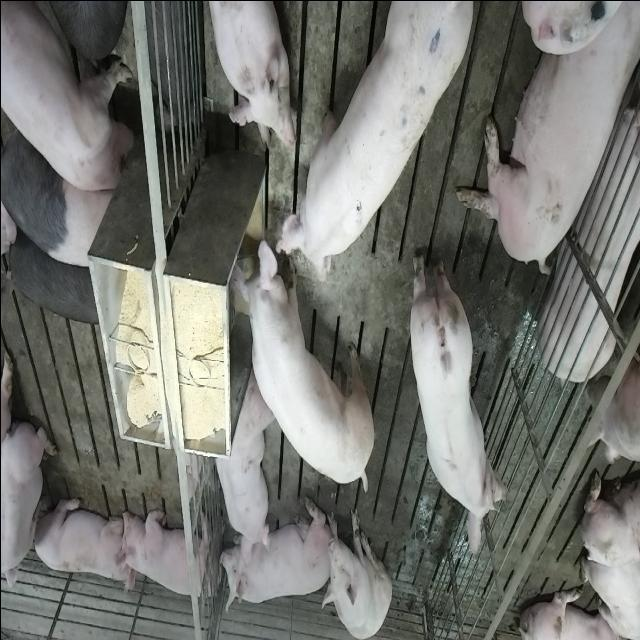Lateral_lying: (453, 4, 637, 278), (538, 97, 640, 381)
Sitting: (322, 504, 391, 637)
Standing: (270, 5, 478, 283), (233, 228, 376, 488), (408, 243, 509, 553), (2, 0, 136, 198), (1, 104, 119, 269), (7, 224, 104, 326)
Sternal_lying: (202, 0, 291, 153), (220, 502, 328, 613), (210, 370, 270, 554), (115, 502, 215, 604), (2, 416, 56, 600), (31, 491, 130, 588)
